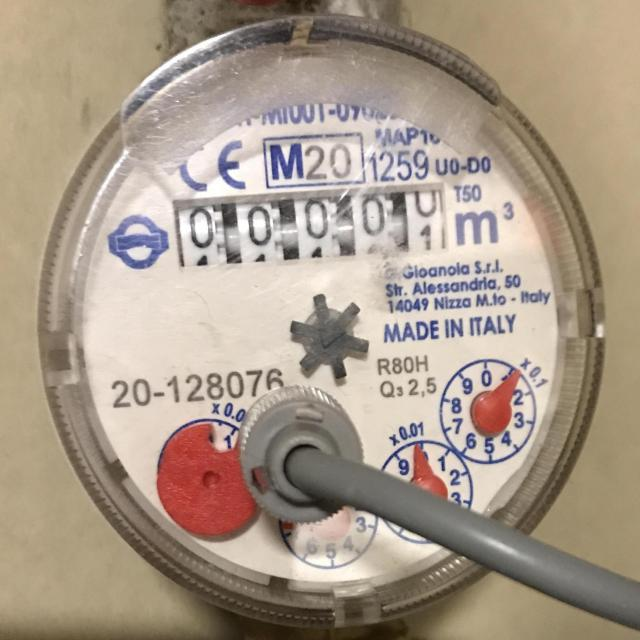gaz_meter: (40, 18, 609, 628)
indication: (170, 186, 449, 268)
